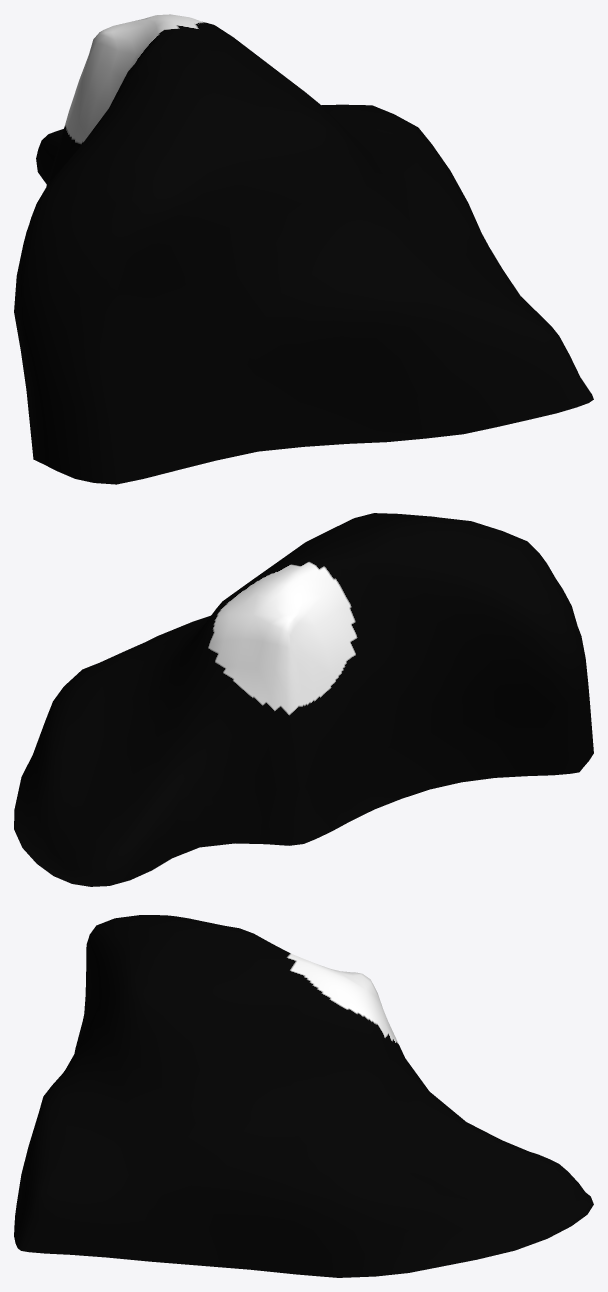
The model's file is BIGROCK2.fbx.
3 renders of one model, top to bottom at view 1: azimuth 30°, elevation 25°; view 2: azimuth 150°, elevation 25°; view 3: azimuth 270°, elevation 25°, orthographic. The views are drawn at different scales.
Visible parts, largest first — view 1: BIGROCK2; view 2: BIGROCK2; view 3: BIGROCK2.
Boxes of the visible parts, box(x1,y1,x2,y2) form: BIGROCK2: box(14, 14, 593, 484); BIGROCK2: box(14, 513, 593, 886); BIGROCK2: box(14, 915, 593, 1277).
Bounding box in the file's own units: 3.78 × 1.96 × 4.64.
